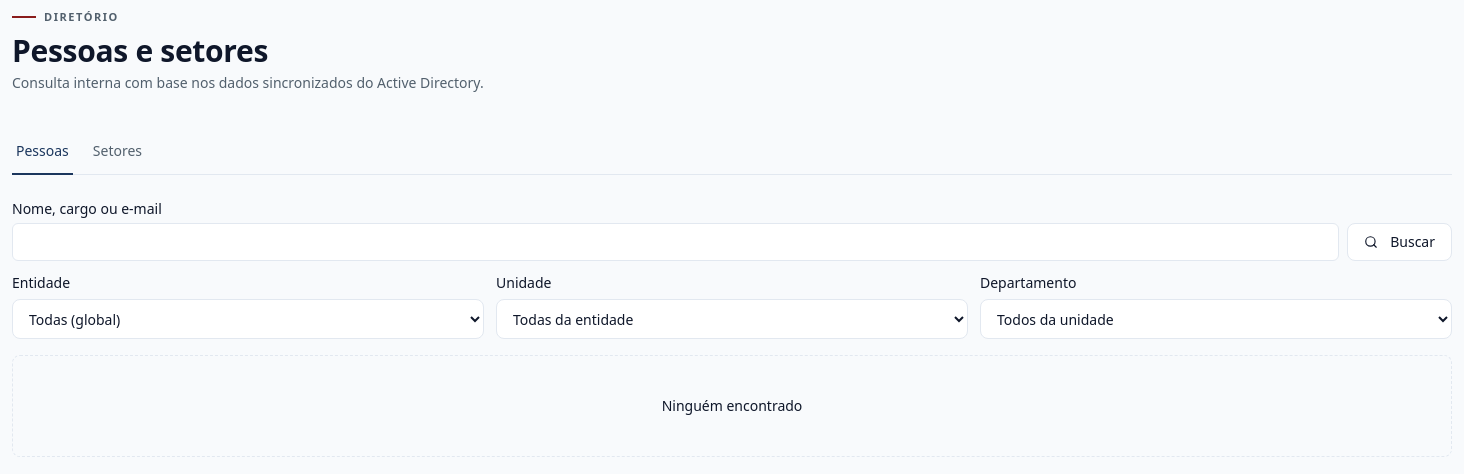
Test: Diretório › sem setores
What coordinates should you click on to do the following:
click the tab "Setores"
I would click on:
 (117, 158)
Its box is [89,141,146,175].
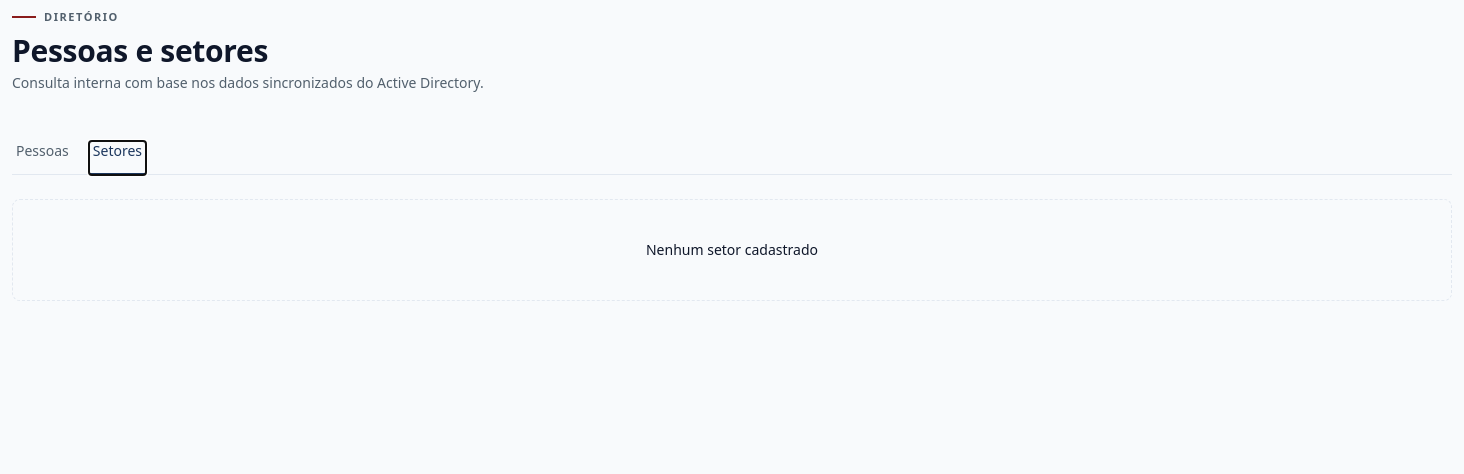
Check: the text "Nenhum setor cadastrado" is shown, box [646,240,818,260]
